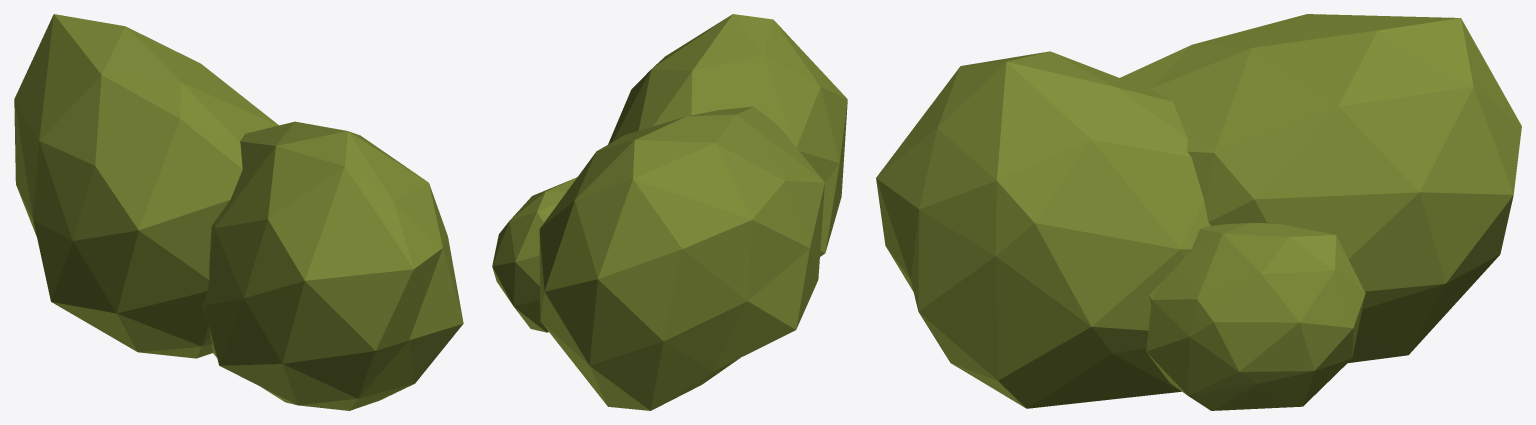
Rendered from buisson_sables (1).fbx.
3 views of the same model, side by side, from view 1: azimuth 30°, elevation 25°; view 2: azimuth 150°, elevation 25°; view 3: azimuth 270°, elevation 25° (orthographic). The views are drawn at different scales.
Visible parts, largest first — view 1: Bush_desert; view 2: Bush_desert; view 3: Bush_desert.
Boxes of the visible parts, x1,y1,x2,y2 form: Bush_desert: [14, 14, 463, 410]; Bush_desert: [492, 14, 847, 410]; Bush_desert: [876, 14, 1521, 410].
Size of the model in its own units: 169 by 149 by 269.
